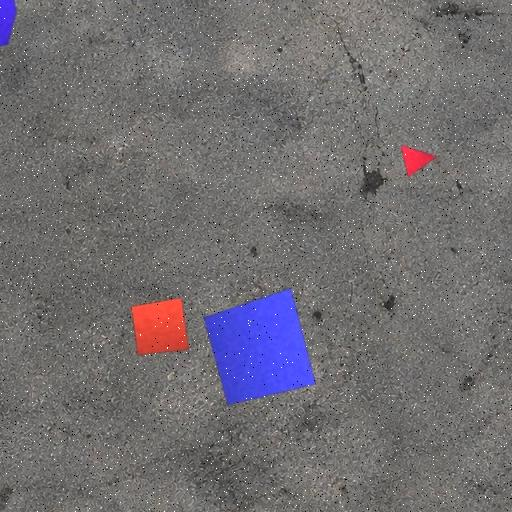BLUE_SQUARE: (203, 288, 316, 406)
RED_SQUARE: (130, 298, 190, 356)
